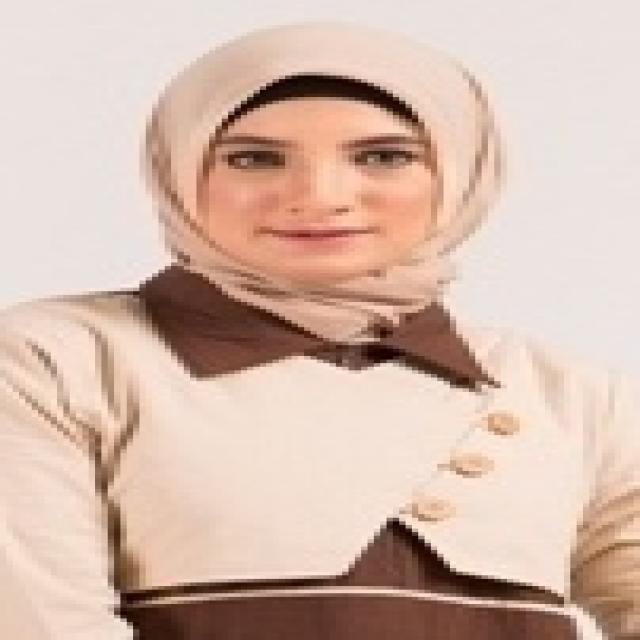head: (135, 20, 521, 286)
